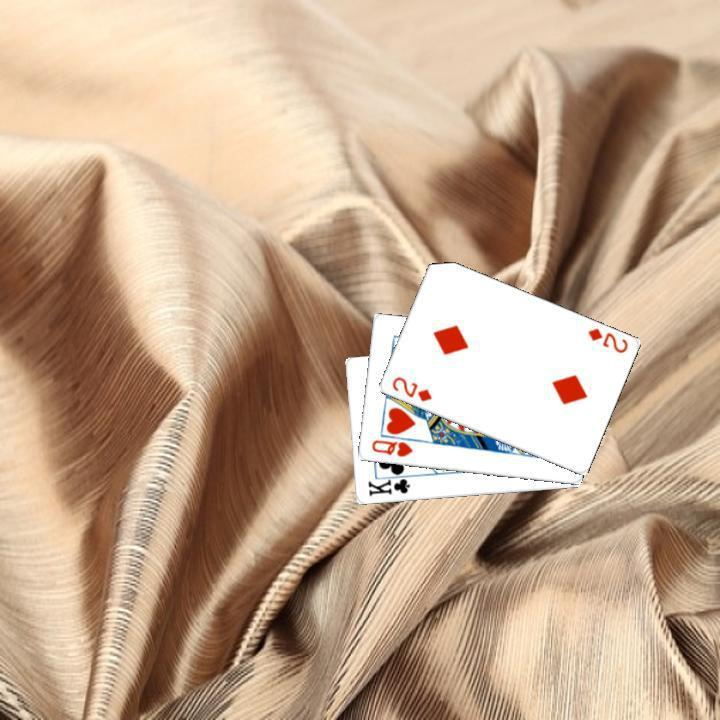2: (387, 372, 433, 404), (583, 324, 630, 355)
K: (364, 470, 415, 498)
Q: (367, 436, 414, 459)
